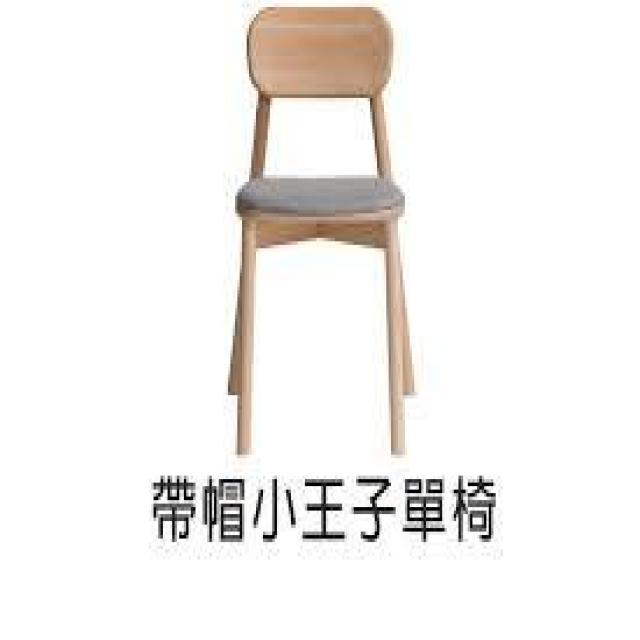chair: (205, 11, 451, 451)
